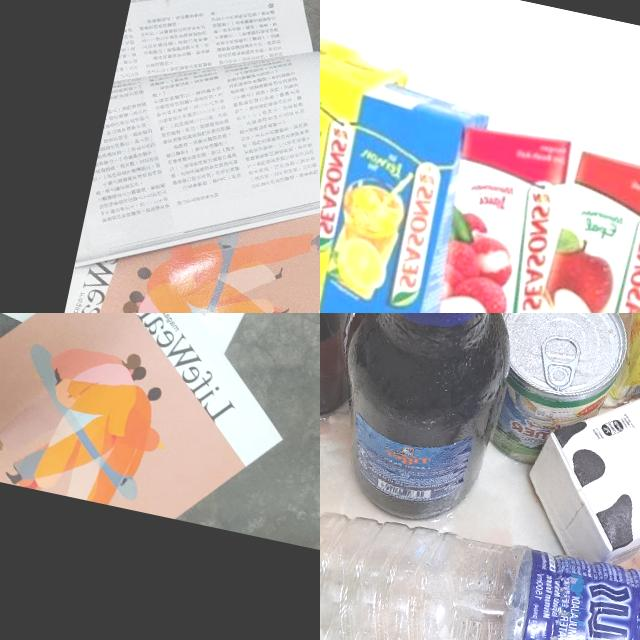aba de lata: (534, 326, 582, 397)
caixinha: (320, 80, 491, 313), (512, 313, 640, 587), (416, 107, 574, 313), (320, 29, 415, 313), (513, 145, 640, 313)
garrafa de vidro: (320, 313, 544, 545), (320, 313, 396, 426)
garrafa plástica: (320, 485, 640, 640)
lata: (476, 313, 636, 475)
papel: (42, 0, 320, 313), (0, 313, 320, 537)
